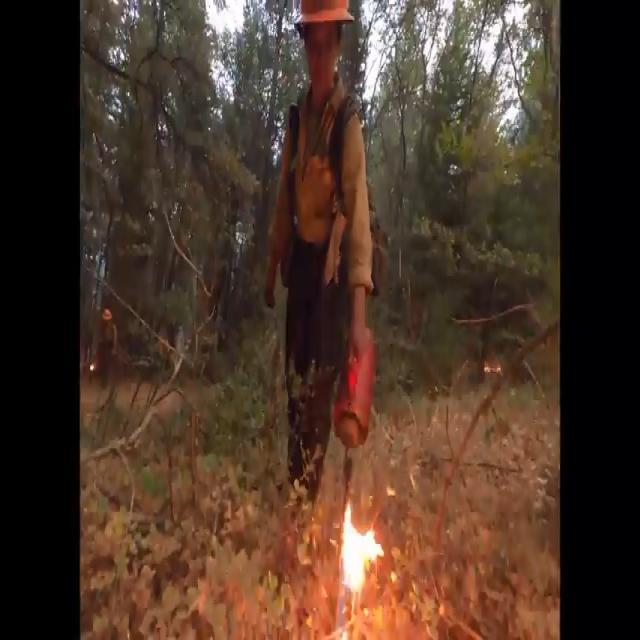Fire: (331, 496, 388, 616)
